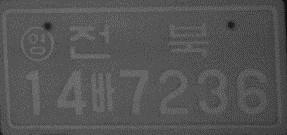1: (19, 67, 51, 117)
2: (157, 68, 190, 116)
3: (196, 67, 227, 115)
4: (56, 70, 87, 117)
6: (235, 67, 268, 116)
7: (119, 68, 149, 114)
바: (89, 71, 115, 112)
영: (18, 25, 54, 63)
전북_D: (68, 22, 209, 59)
